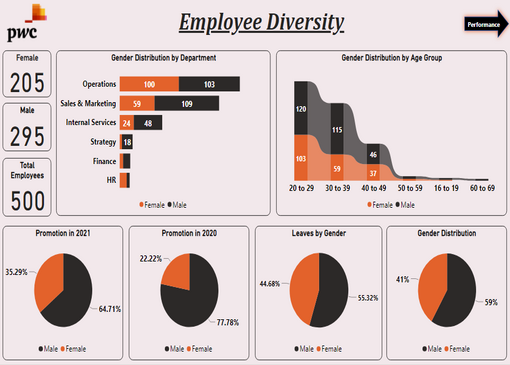

Layout of this report page (visuals, bound fields, positions):
{"tool":"powerbi","page":{"name":"Diversity","canvas":[1280,720],"ordinal":0},"visuals":[{"type":"card","title":"Male","fields":{"Values":["CountNonNull(Pharma Group AG.Gender)"]},"box":[10.1,205.9,121,95],"z":0},{"type":"card","title":"Female","fields":{"Values":["CountNonNull(Pharma Group AG.Gender)"]},"box":[10.1,103.7,121,92.2],"z":1000},{"type":"card","title":"Total Employees","fields":{"Values":["CountNonNull(Pharma Group AG.Gender)"]},"box":[10.1,313.9,121,115.2],"z":2000},{"type":"barChart","title":"Gender Distribution by Department","fields":{"Category":["Pharma Group AG.Department @01.07.2020"],"Y":["CountNonNull(Pharma Group AG.Department @01.07.2020)"],"Series":["Pharma Group AG.Gender"]},"box":[144,103.7,534.2,325.4],"z":3000},{"type":"pieChart","title":"Leaves by Gender","fields":{"Y":["CountNonNull(Pharma Group AG.FY20 leaver?)"],"Category":["Pharma Group AG.Gender"]},"box":[639.4,447.8,316.8,263.5],"z":4000},{"type":"pieChart","title":"Gender Distribution","fields":{"Y":["CountNonNull(Pharma Group AG.Gender)"],"Category":["Pharma Group AG.Gender"]},"box":[967.7,447.8,299.5,263.5],"z":5000},{"type":"image","box":[10.1,7.2,121,85],"z":6000},{"type":"pieChart","title":"Promotion in 2021","fields":{"Category":["Pharma Group AG.Gender"],"Y":["Divide(CountNonNull(Pharma Group AG.Promotion in FY21?), ScopedEval(CountNonNull(Pharma Group AG.Promotion in FY21?), []"]},"box":[10.1,447.8,299.5,263.5],"z":7000},{"type":"pieChart","title":"Promotion in 2020","fields":{"Category":["Pharma Group AG.Gender"],"Y":["Divide(CountNonNull(Pharma Group AG.Promotion in FY20?), ScopedEval(CountNonNull(Pharma Group AG.Promotion in FY20?), []"]},"box":[325.4,447.8,299.5,263.5],"z":8000},{"type":"ribbonChart","title":"Gender Distribution by Age Group","fields":{"Category":["Pharma Group AG.Age group"],"Y":["CountNonNull(Pharma Group AG.Employee ID)"],"Series":["Pharma Group AG.Gender"]},"box":[692.6,103.7,574.6,325.4],"z":9000},{"type":"textbox","box":[426.2,10.1,457.9,79.2],"z":10000},{"type":"shape","box":[1153.4,14.4,126.7,72],"z":11000}]}

Visuals, with their boxes on the page's 1280x720 design canvas (x1, y1, x2, y2). These are canvas units, not pixel positions in the 510x365 screenshot, which may show the page scaled, cropped or inside an application window:
"Male" card: select_region(10, 206, 131, 301)
"Female" card: select_region(10, 104, 131, 196)
"Total Employees" card: select_region(10, 314, 131, 429)
"Gender Distribution by Department" barChart: select_region(144, 104, 678, 429)
"Leaves by Gender" pieChart: select_region(639, 448, 956, 711)
"Gender Distribution" pieChart: select_region(968, 448, 1267, 711)
image: select_region(10, 7, 131, 92)
"Promotion in 2021" pieChart: select_region(10, 448, 310, 711)
"Promotion in 2020" pieChart: select_region(325, 448, 625, 711)
"Gender Distribution by Age Group" ribbonChart: select_region(693, 104, 1267, 429)
textbox: select_region(426, 10, 884, 89)
shape: select_region(1153, 14, 1280, 86)
